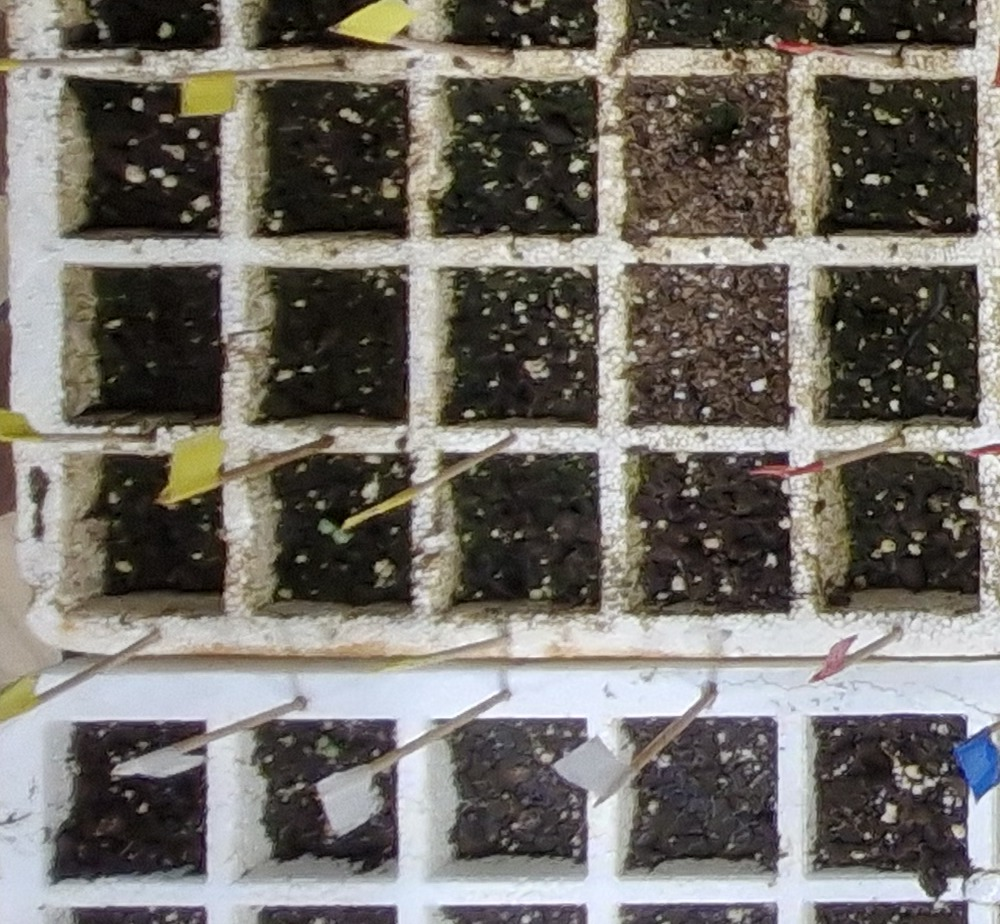Folha: (334, 530, 355, 543), (318, 519, 335, 533)
Germinacao: (318, 519, 354, 544)
